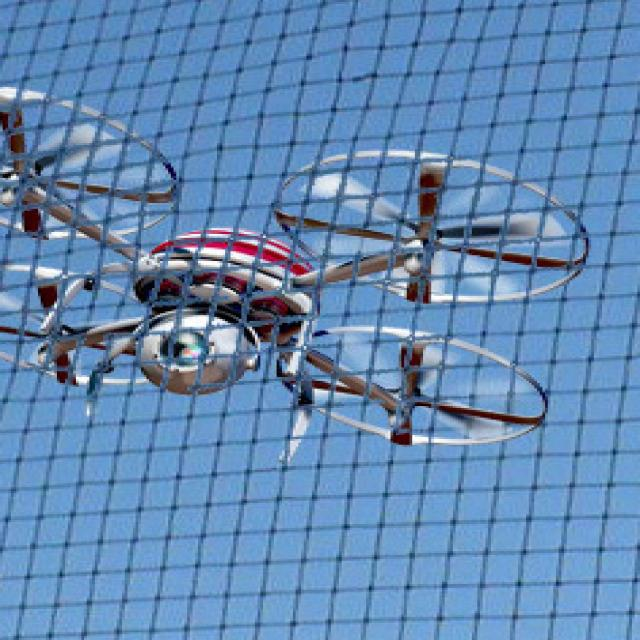drone: (0, 56, 605, 489)
